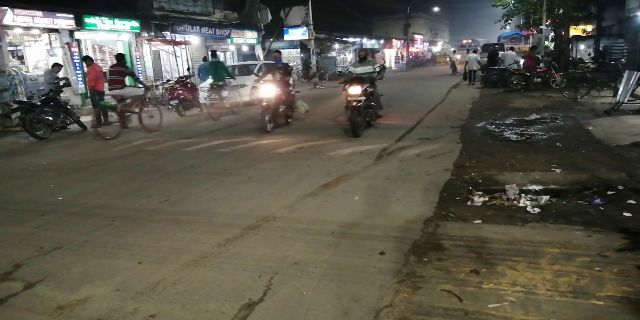Car: (200, 56, 281, 101)
Cycle: (90, 52, 166, 143)
Motorbike: (336, 49, 388, 143), (14, 88, 89, 144), (257, 49, 301, 138)
